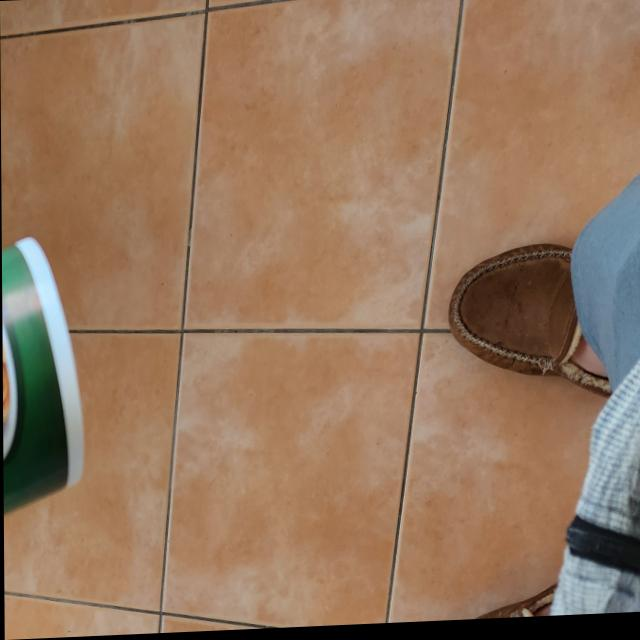cheese: (2, 230, 86, 612)
